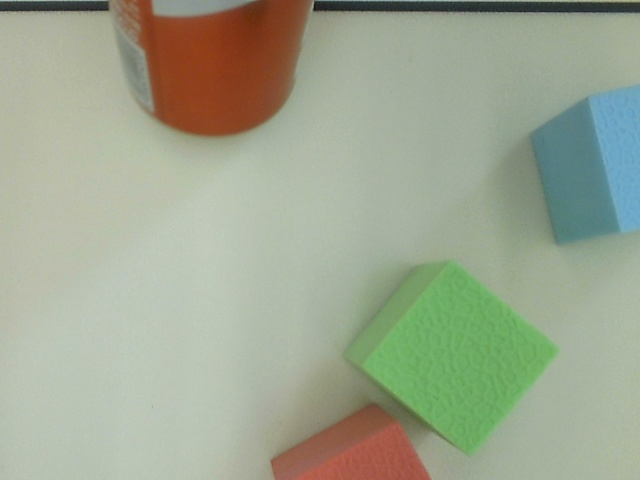bluecube: (522, 88, 640, 252)
cola: (104, 1, 320, 144)
greencube: (341, 253, 565, 456)
redcube: (264, 401, 438, 480)
